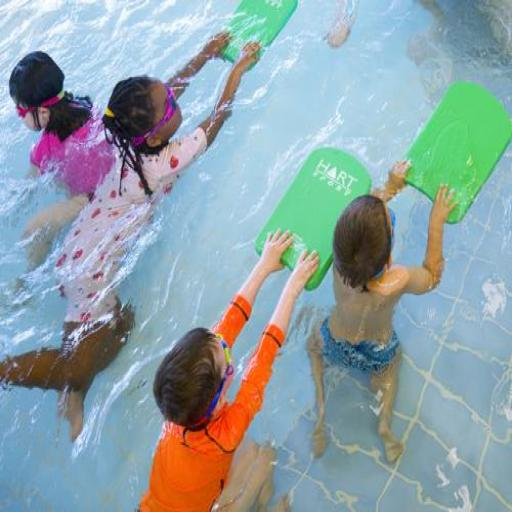swimming: (0, 27, 264, 445), (134, 226, 320, 510), (304, 157, 460, 466), (5, 48, 116, 276)
